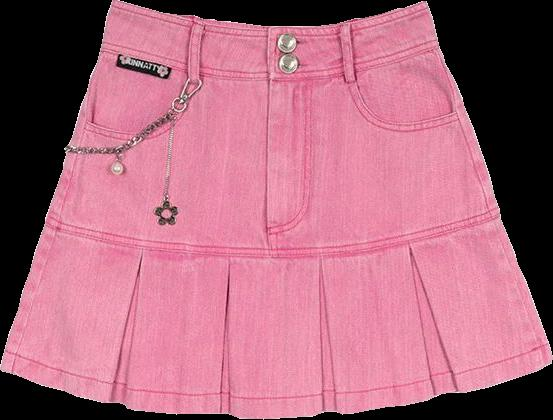Hemline: (0, 357, 552, 419)
Waistline: (47, 41, 498, 258), (110, 0, 423, 31)
